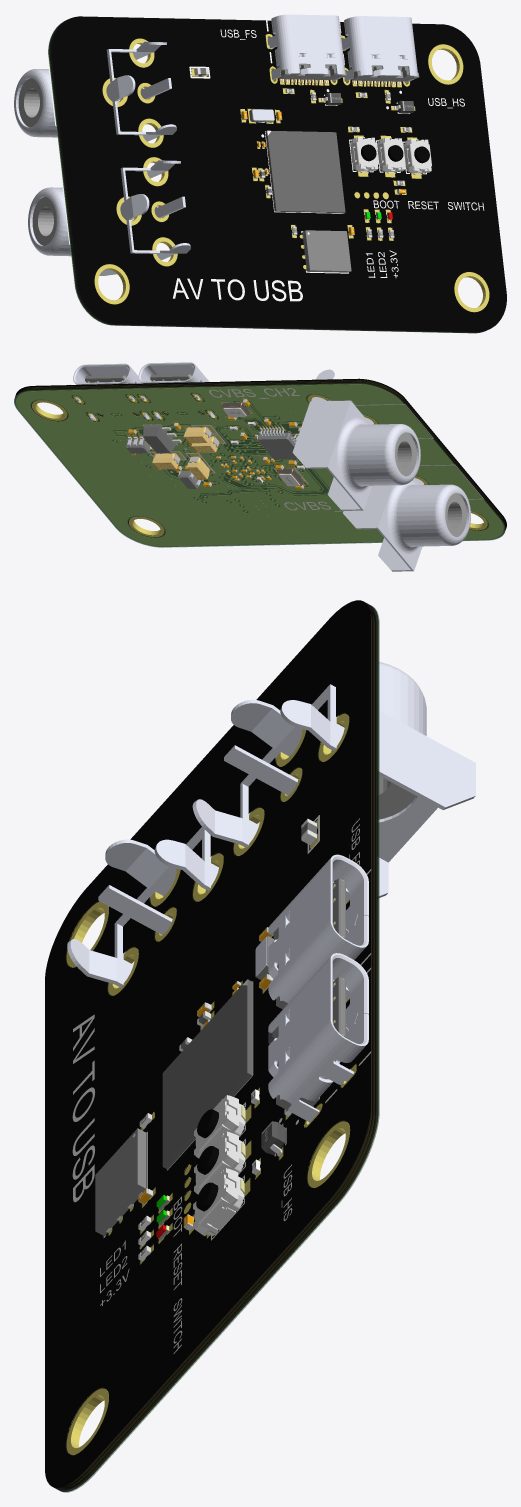
Rendered from stm32r3.glb.
3 renders of one model, top to bottom at view 1: azimuth 30°, elevation 25°; view 2: azimuth 150°, elevation 25°; view 3: azimuth 270°, elevation 25°, orthographic. The views are drawn at different scales.
Visible parts, largest first — view 1: Solder_Top, ComponentBody.5, ComponentBody.48, ComponentBody.70, ComponentBody.122, ComponentBody.120, Top, Core, ComponentBody.96, Pad.102, Core.1, Pad.36 (+10 smaller); view 2: Solder_Bottom, GND, ComponentBody.120, ComponentBody.122, Core.2, Core.1, Bottom, ComponentBody.48, ComponentBody.70, Core, Pad.102, Solder_Top (+11 smaller); view 3: Solder_Top, ComponentBody.120, ComponentBody.70, ComponentBody.5, ComponentBody.48, ComponentBody.122, GND, Core.1, Core, Core.2, ComponentBody.96, Top (+9 smaller).
Boxes of the visible parts, x1,y1,x2,y2 form: Solder_Top: (51,16,506,331); ComponentBody.5: (265,131,345,213); ComponentBody.48: (267,14,345,81); ComponentBody.70: (341,16,417,83); ComponentBody.122: (28,160,190,275); ComponentBody.120: (14,41,176,141); Top: (173,20,484,301); Core: (50,21,489,332); ComponentBody.96: (302,230,351,272); Pad.102: (94,44,489,312); Core.1: (49,21,481,332); Pad.36: (116,157,177,266); Solder_Bottom: (14,383,505,547); GND: (16,380,503,545); ComponentBody.120: (292,369,420,510); ComponentBody.122: (343,477,470,571); Core.2: (14,382,505,546); Core.1: (15,380,506,529); Bottom: (127,388,483,511); ComponentBody.48: (138,362,214,419); ComponentBody.70: (73,363,149,420); Core: (16,379,506,527); Pad.102: (31,400,487,537); Solder_Top: (16,378,506,527); Solder_Top: (45,600,370,1487); ComponentBody.120: (192,662,475,897); ComponentBody.70: (268,953,368,1122); ComponentBody.5: (162,979,252,1169); ComponentBody.48: (268,854,368,1003); ComponentBody.122: (67,827,218,987); GND: (66,617,376,1486); Core.1: (55,603,376,1490); Core: (53,602,373,1489); Core.2: (58,605,378,1491); ComponentBody.96: (95,1128,146,1235); Top: (72,815,371,1353).
Size of the model in its own units: 6.61 by 4.41 by 2.91.
